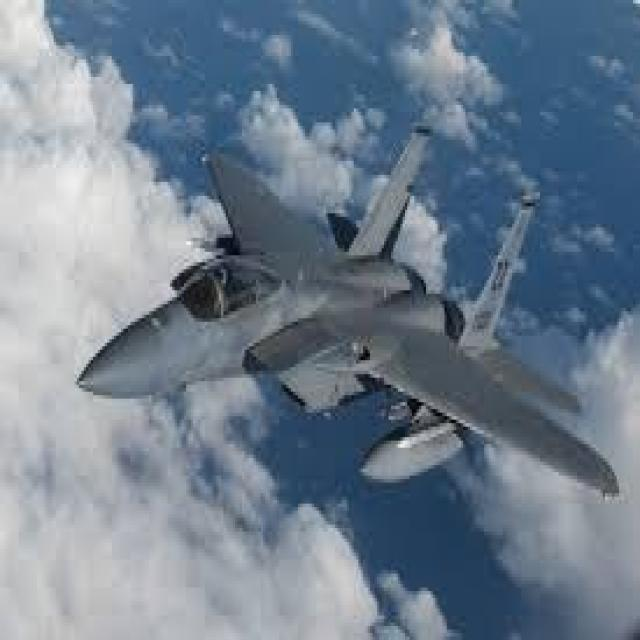F15: (62, 114, 633, 526)
